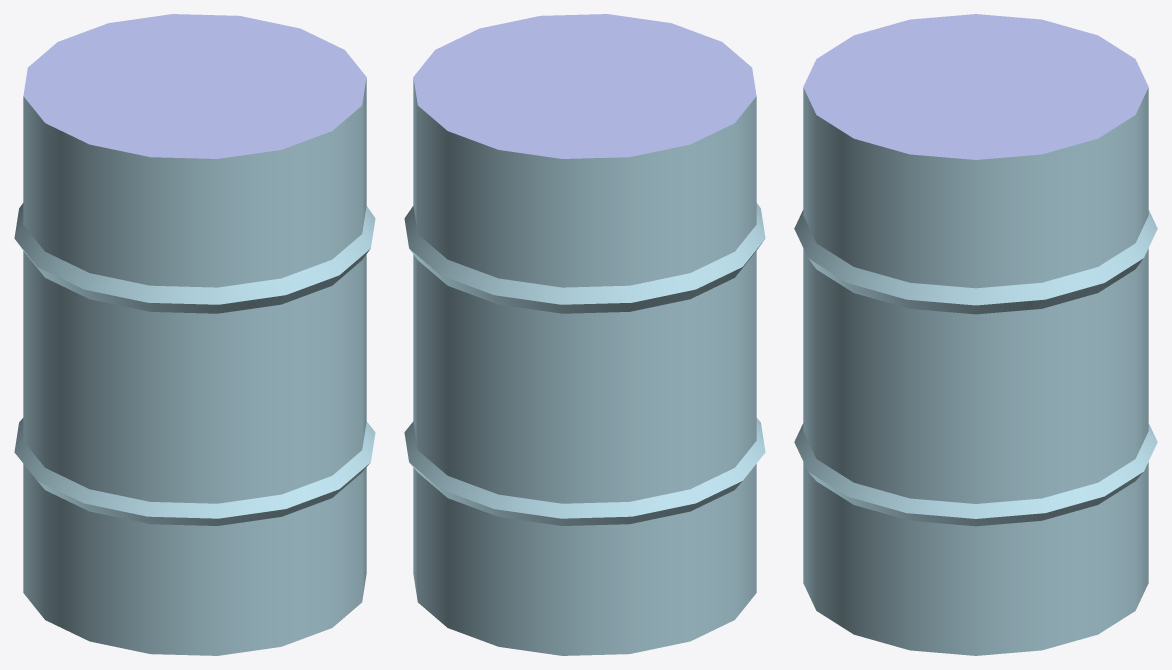
File: barrel03a.fbx
3 renders of one model, left to right at view 1: azimuth 30°, elevation 25°; view 2: azimuth 150°, elevation 25°; view 3: azimuth 270°, elevation 25°, orthographic.
Visible parts, largest first — view 1: barrel03a; view 2: barrel03a; view 3: barrel03a.
Boxes of the visible parts, x1,y1,x2,y2 form: barrel03a: (14,14,375,655); barrel03a: (404,14,765,655); barrel03a: (794,14,1157,655).
Size of the model in its own units: 3197 by 4813 by 3197.
